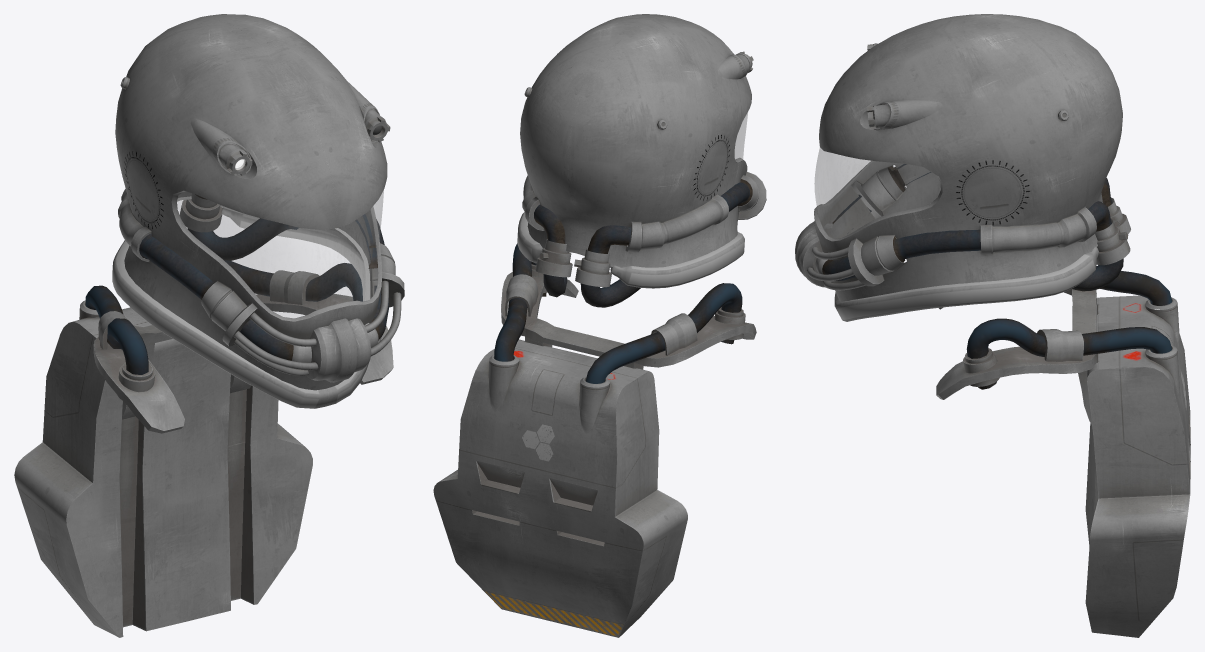
The model's file is space_helmet.glb.
3 renders of one model, left to right at view 1: azimuth 30°, elevation 25°; view 2: azimuth 150°, elevation 25°; view 3: azimuth 270°, elevation 25°, orthographic. The views are drawn at different scales.
Visible parts, largest first — view 1: helmet-main_Baked_4, backpack_Baked_3, visor_12, shoulder-strap_Baked_2, helmet-padding_Baked_10, tube_Baked_0, helmet-tube_Baked_8, helmet-tube-inner_Baked_1, helmet-necknozzle_Baked_7; view 2: backpack_Baked_3, helmet-main_Baked_4, shoulder-strap_Baked_2, tube_Baked_0, helmet-padding_Baked_10, helmet-tube_Baked_8, helmet-tube-inner_Baked_1, helmet-necknozzle2_Baked_11, helmet-necknozzle_Baked_7; view 3: helmet-main_Baked_4, backpack_Baked_3, visor_12, shoulder-strap_Baked_2, helmet-padding_Baked_10, tube_Baked_0, helmet-tube_Baked_8, helmet-necknozzle_Baked_7, helmet-tube-inner_Baked_1.
Part boxes in pixels (x1,y1,x2,y2): helmet-main_Baked_4: (115, 14, 404, 390); backpack_Baked_3: (14, 300, 312, 637); visor_12: (177, 190, 383, 317); shoulder-strap_Baked_2: (93, 270, 393, 433); helmet-padding_Baked_10: (112, 208, 370, 408); tube_Baked_0: (85, 260, 362, 374); helmet-tube_Baked_8: (139, 194, 389, 360); helmet-tube-inner_Baked_1: (145, 218, 298, 260); helmet-necknozzle_Baked_7: (180, 193, 222, 232); backpack_Baked_3: (433, 339, 687, 637); helmet-main_Baked_4: (520, 14, 766, 268); shoulder-strap_Baked_2: (501, 264, 756, 369); tube_Baked_0: (494, 243, 742, 383); helmet-padding_Baked_10: (517, 212, 744, 288); helmet-tube_Baked_8: (534, 179, 752, 253); helmet-tube-inner_Baked_1: (543, 274, 640, 307); helmet-necknozzle2_Baked_11: (574, 248, 611, 287); helmet-necknozzle_Baked_7: (535, 239, 572, 277); helmet-main_Baked_4: (795, 14, 1122, 301); backpack_Baked_3: (1085, 295, 1190, 637); visor_12: (814, 148, 940, 238); shoulder-strap_Baked_2: (936, 289, 1097, 424); helmet-padding_Baked_10: (834, 203, 1098, 321); tube_Baked_0: (966, 266, 1172, 389); helmet-tube_Baked_8: (822, 164, 1112, 280); helmet-necknozzle_Baked_7: (1095, 219, 1130, 265); helmet-tube-inner_Baked_1: (1071, 258, 1123, 291).
Size of the model in its own units: 0.2598 by 0.5897 by 0.3633.
Materials: 2 (2 with a texture image).
